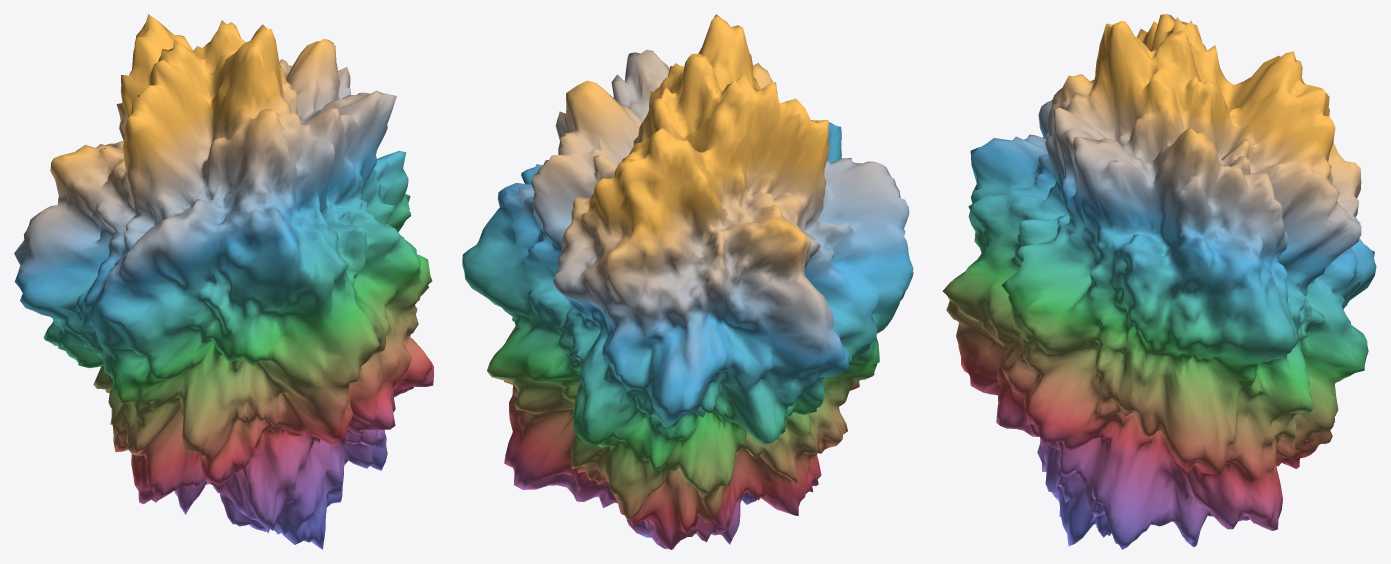
Rendered from 3D_icon.glb.
3 views of the same model, side by side, from view 1: azimuth 30°, elevation 25°; view 2: azimuth 150°, elevation 25°; view 3: azimuth 270°, elevation 25° (orthographic).
Parts seen in each view (by area): view 1: Icosphere; view 2: Icosphere; view 3: Icosphere.
Boxes of the visible parts, x1,y1,x2,y2 form: Icosphere: (14,14,433,549); Icosphere: (462,14,913,549); Icosphere: (942,14,1376,549).
Size of the model in its own units: 3.11 by 4.12 by 3.18.
Materials: 1 (1 with a texture image).
